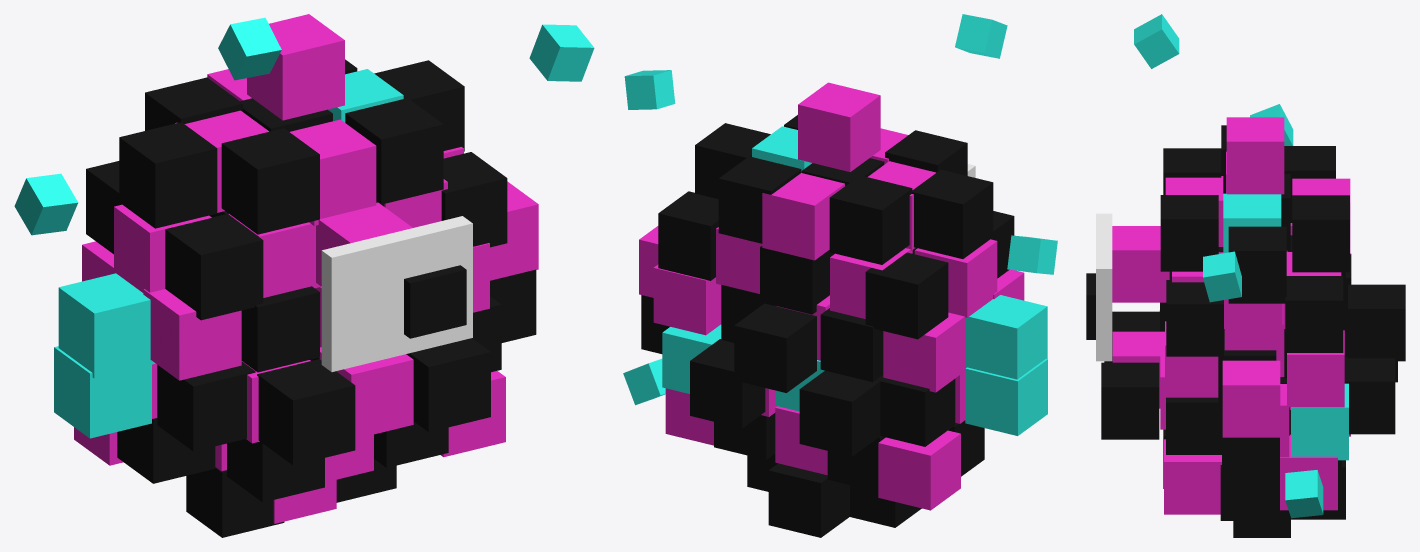
Rendered from G24_Glitch.fbx.
3 renders of one model, left to right at view 1: azimuth 30°, elevation 25°; view 2: azimuth 150°, elevation 25°; view 3: azimuth 270°, elevation 25°, orthographic. The views are drawn at different scales.
Parts seen in each view (by area): view 1: G24_Glitch__VoxB, G24_Glitch__VoxA, G24_Glitch__VoxC, G24_Glitch__Eye, G24_Glitch__Pupil; view 2: G24_Glitch__VoxB, G24_Glitch__VoxA, G24_Glitch__VoxC; view 3: G24_Glitch__VoxB, G24_Glitch__VoxA, G24_Glitch__VoxC, G24_Glitch__Eye, G24_Glitch__Pupil.
Part boxes in pixels (x1,y1,x2,y2): G24_Glitch__VoxB: (86, 59, 536, 537); G24_Glitch__VoxA: (74, 14, 538, 523); G24_Glitch__VoxC: (14, 17, 594, 438); G24_Glitch__Eye: (321, 216, 472, 371); G24_Glitch__Pupil: (404, 265, 466, 338); G24_Glitch__VoxB: (641, 115, 1014, 537); G24_Glitch__VoxA: (639, 82, 1024, 510); G24_Glitch__VoxC: (623, 14, 1057, 435); G24_Glitch__VoxB: (1101, 125, 1405, 537); G24_Glitch__VoxA: (1112, 117, 1350, 514); G24_Glitch__VoxC: (1134, 14, 1348, 518); G24_Glitch__Eye: (1096, 213, 1112, 361); G24_Glitch__Pupil: (1086, 273, 1095, 339).
Bounding box in the file's own units: 2.99 × 3 × 1.95.
